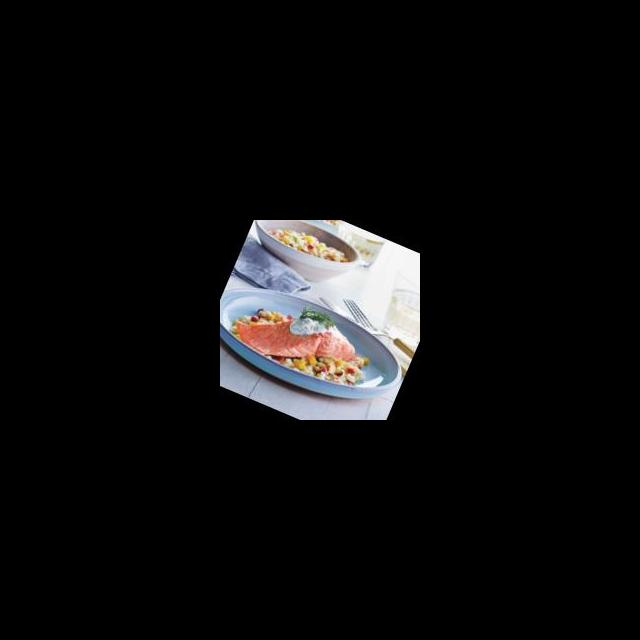ca hoi: (242, 308, 364, 369)
ca hoi sot pho mai kem: (229, 282, 400, 391)
pho mai: (289, 302, 344, 334)
